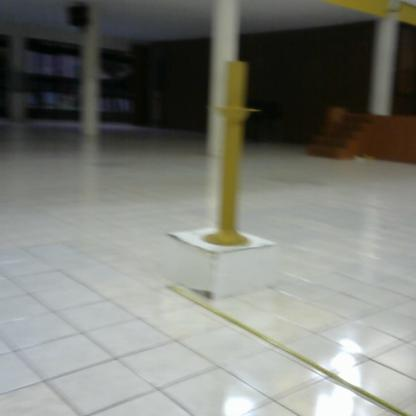pole: (201, 58, 266, 258)
